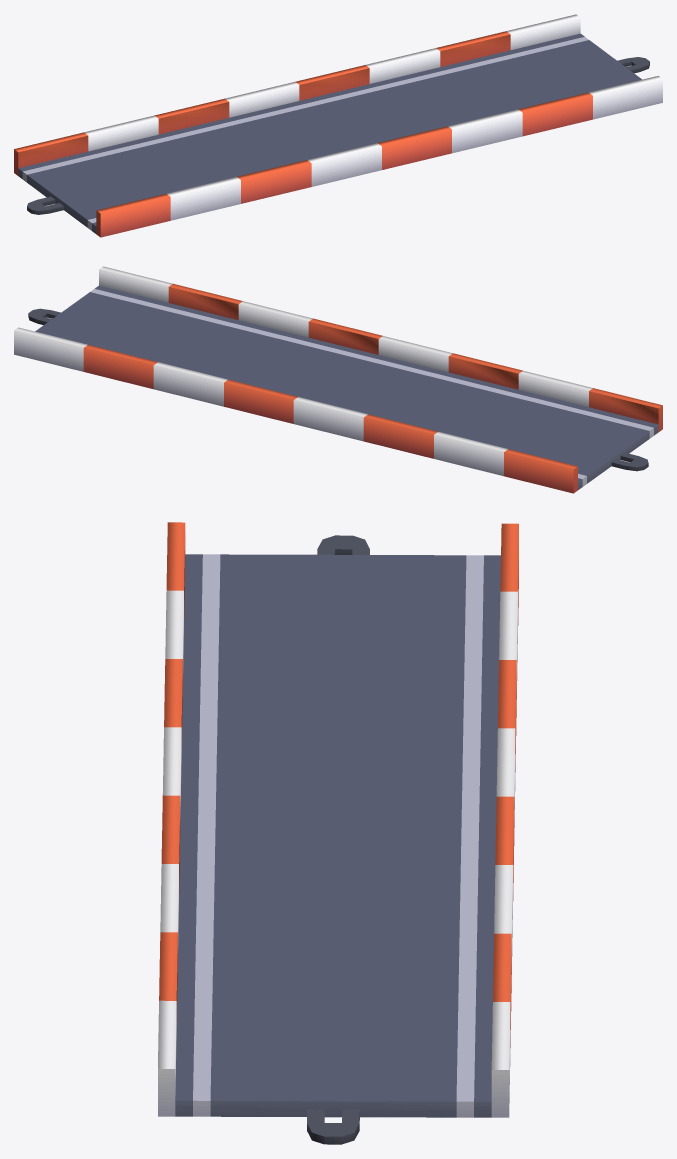
The model's file is track-road-wide-straight.013.002_lev2.glb.
3 renders of one model, top to bottom at view 1: azimuth 30°, elevation 25°; view 2: azimuth 150°, elevation 25°; view 3: azimuth 270°, elevation 25°, orthographic. The views are drawn at different scales.
Parts seen in each view (by area): view 1: track-road-wide-straight.013.002_lev2; view 2: track-road-wide-straight.013.002_lev2; view 3: track-road-wide-straight.013.002_lev2.
Part boxes in pixels (<box>): track-road-wide-straight.013.002_lev2: <box>14,14,662,237</box>; track-road-wide-straight.013.002_lev2: <box>14,266,662,493</box>; track-road-wide-straight.013.002_lev2: <box>158,522,518,1144</box>.
Bounding box in the file's own units: 8.1 × 0.3 × 2.06.
1 material, 1 textured.
